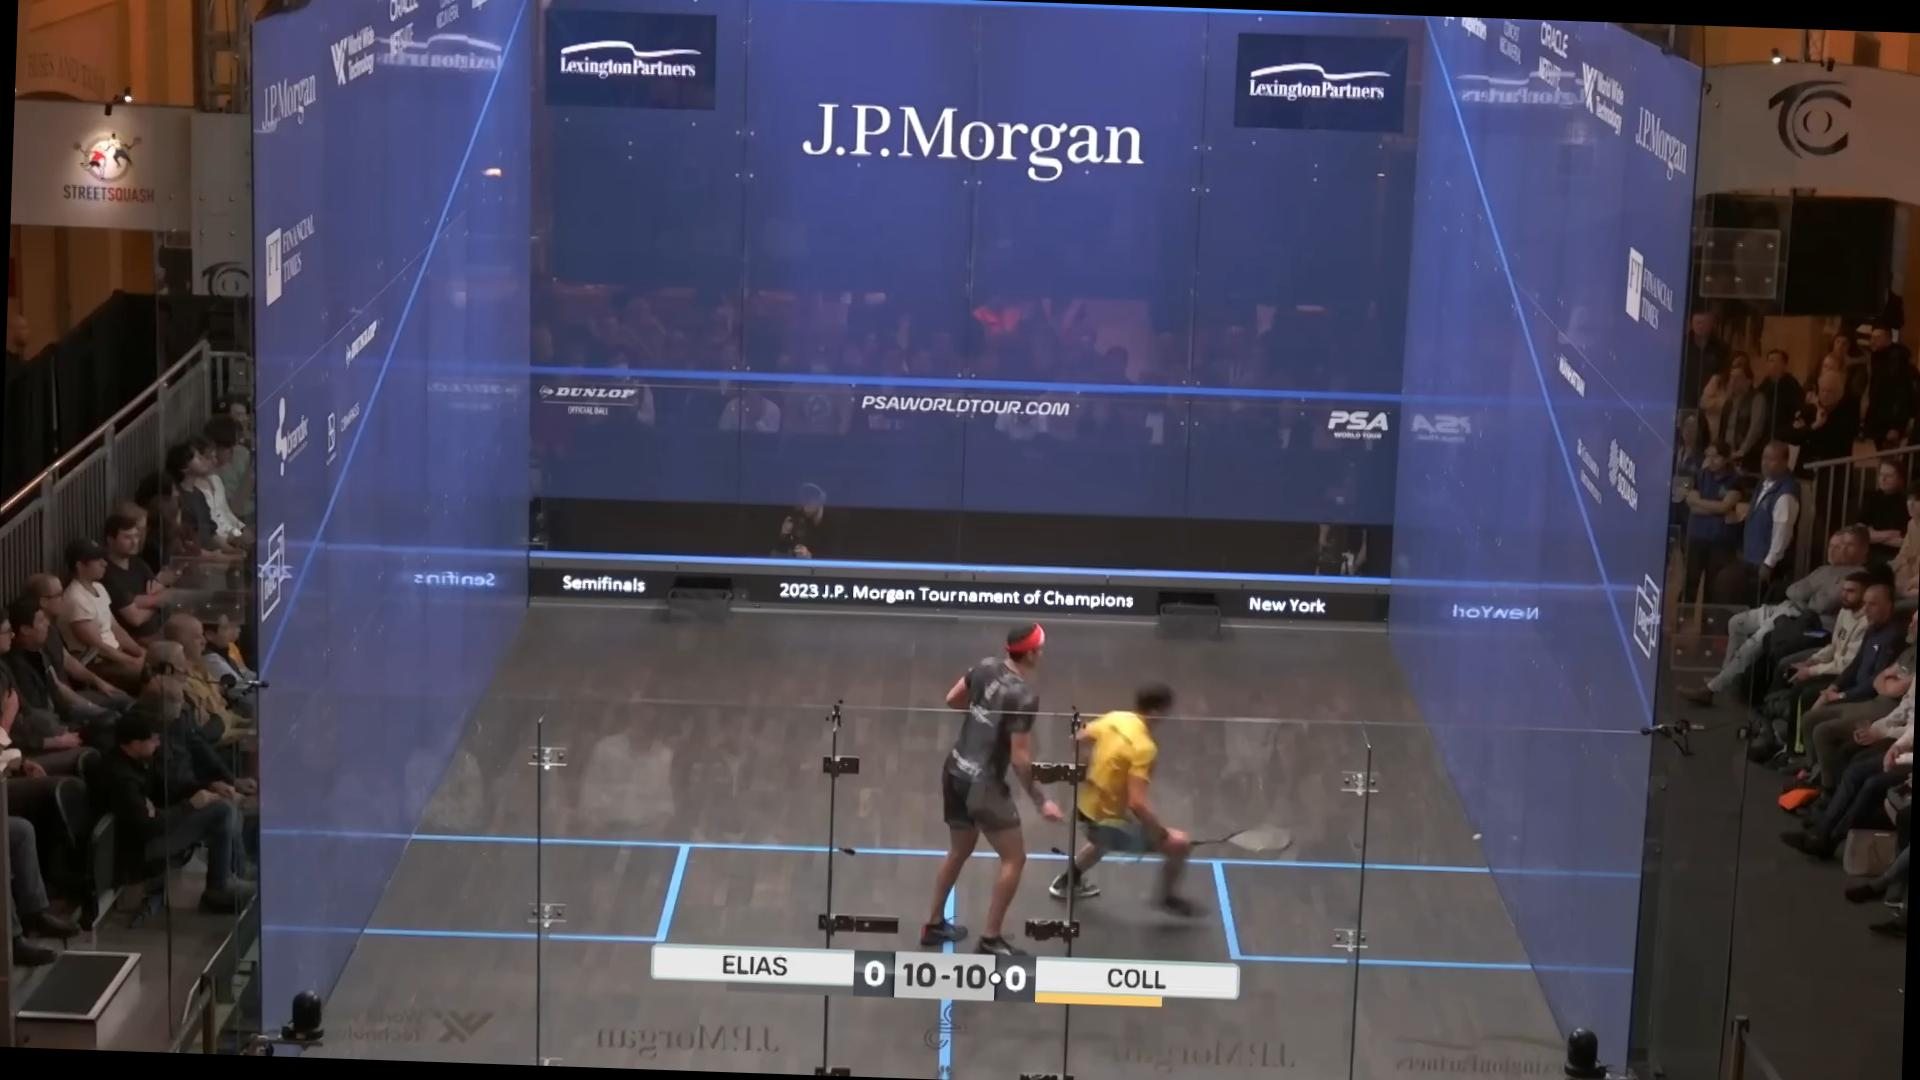Racket: (1193, 815, 1299, 865)
